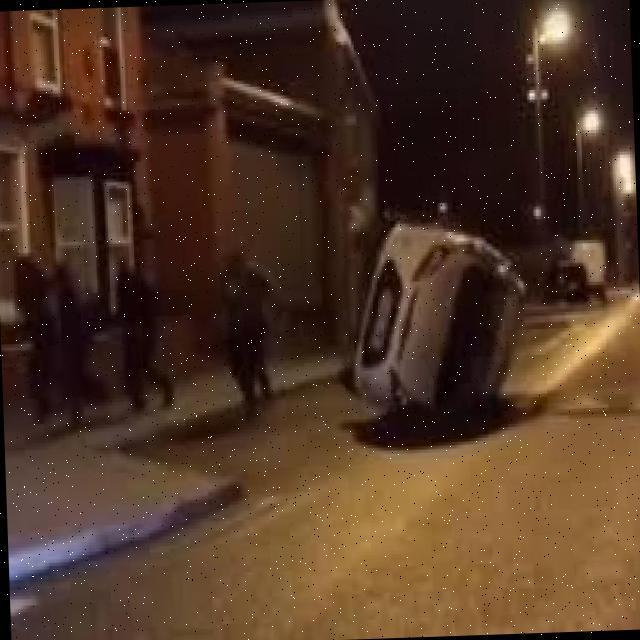accident: (325, 201, 532, 441)
